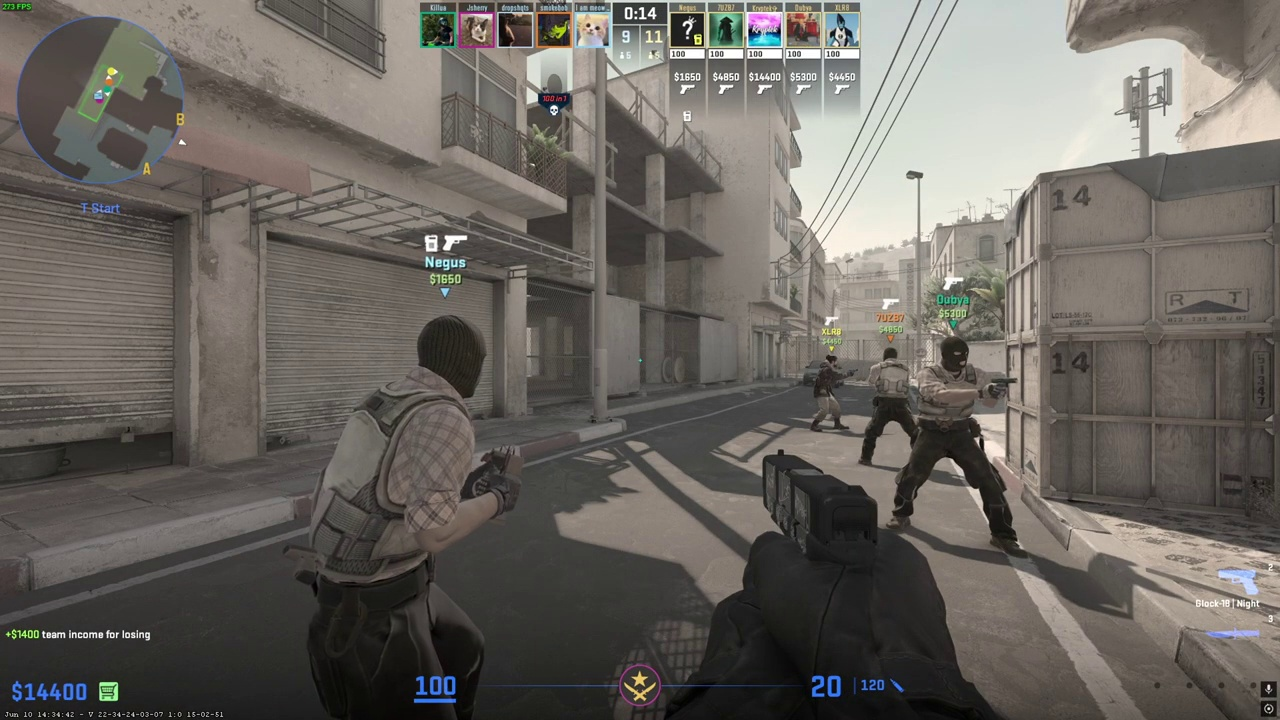Terrorist: (295, 315, 494, 710), (909, 336, 1022, 551), (862, 347, 915, 466), (811, 355, 846, 432)
